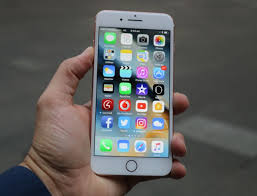iphone: (88, 6, 177, 179)
iphone7: (88, 7, 177, 180)
